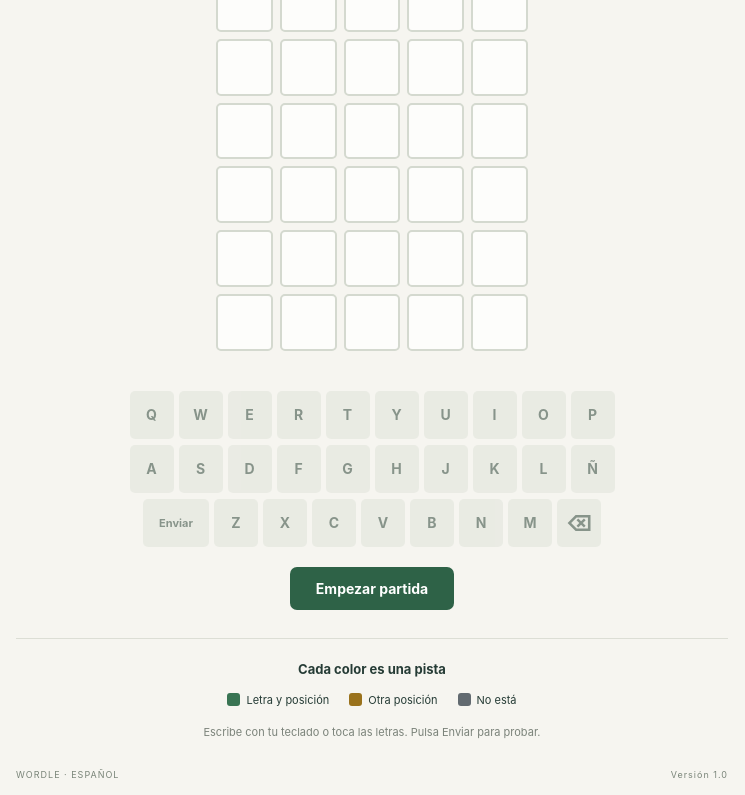
Test case: Wordle v1.0 › supports virtual letters, deletion and client-side length validation
(page scrolled)
Click the button "Empezar partida".
click(372, 588)  # box 290,567 -> 454,610
(page scrolled)
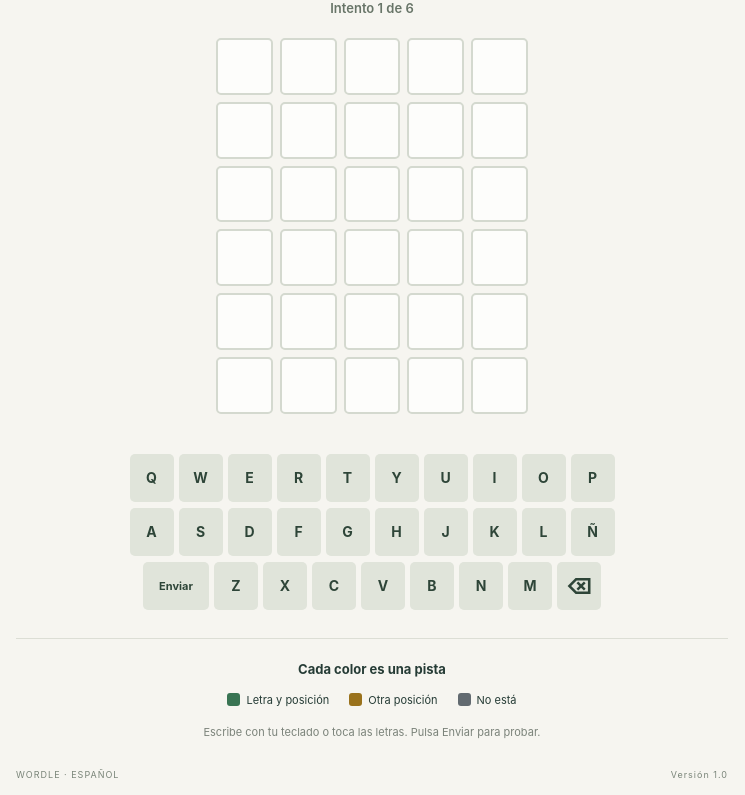
Now the text "Intento 1 de 6" is shown, box 330,0 -> 414,16
Click the button "A".
click(152, 532)  # box 130,508 -> 174,556
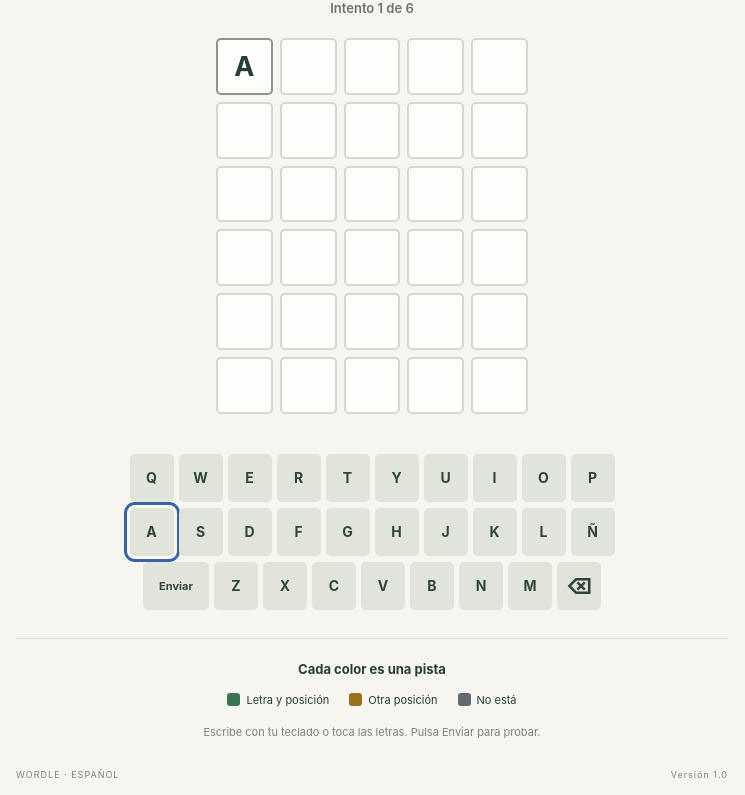
Now the element named "Intento 1" reads "A", box 234,50 -> 254,83
Click the button named "Borrar letra".
click(579, 586)  # box 557,562 -> 601,610
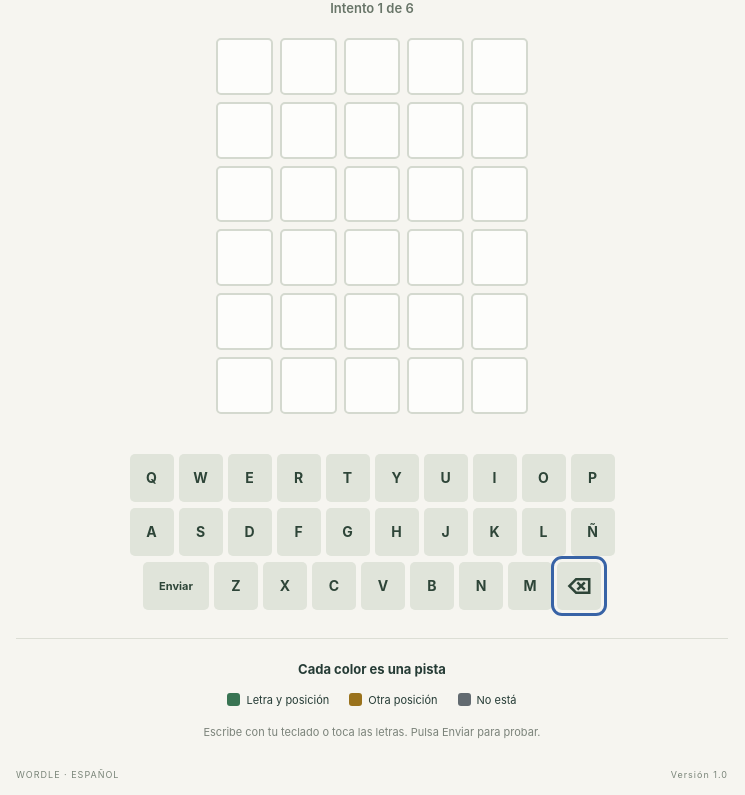
Now the element named "Intento 1" is empty, box 216,38 -> 528,95
Click the button "Enviar".
click(176, 586)  # box 143,562 -> 209,610
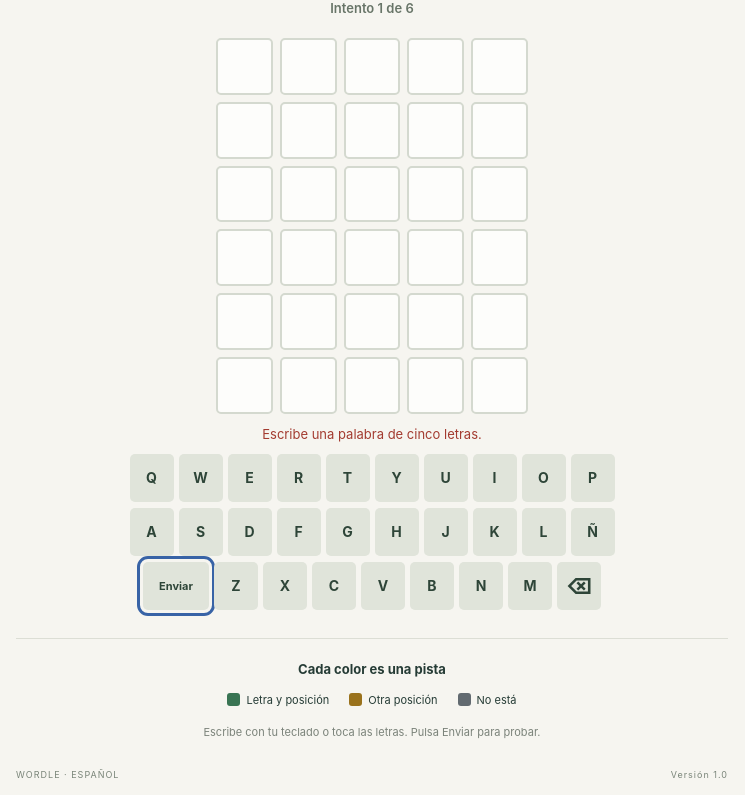
Now the message "Escribe una palabra de cinco letras." is shown, box 262,426 -> 482,442
